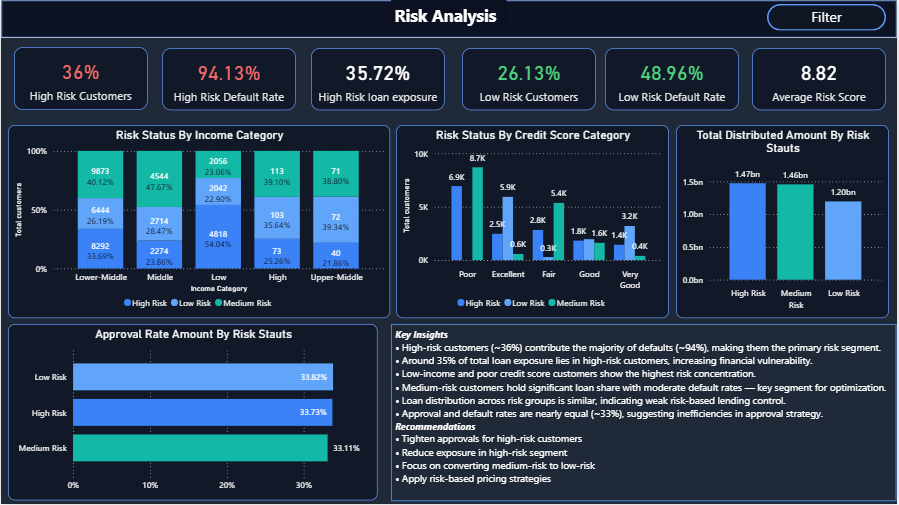

The page's visual inventory and layout, read from the dashboard file:
{"tool":"powerbi","page":{"name":"Risk analysis","canvas":[1280,720],"ordinal":1},"visuals":[{"type":"card","fields":{"Values":["Measure_table.High Risk Customers"]},"box":[18.7,67.2,190.8,89.6],"z":0},{"type":"shape","box":[0,0,1280,54.3],"z":1000},{"type":"textbox","box":[557.5,0,165,45],"z":2000},{"type":"card","fields":{"Values":["Measure_table.Low Risk Customers"]},"box":[657.9,67.9,191.3,89.4],"z":3000},{"type":"card","fields":{"Values":["Measure_table.HR Default Rate"]},"box":[230.6,67.9,191.3,89.4],"z":4000},{"type":"card","fields":{"Values":["Measure_table.Low Risk Default Rate"]},"box":[863.5,67.9,191.3,89.4],"z":5000},{"type":"card","fields":{"Values":["Measure_table.Average Risk Score"]},"box":[1072.6,67.9,191.3,89.4],"z":6000},{"type":"card","fields":{"Values":["Measure_table.HR loan exposure"]},"box":[443.4,67.9,191.3,89.4],"z":7000},{"type":"actionButton","box":[1094,6,170,38],"z":8000},{"type":"hundredPercentStackedColumnChart","title":"Risk Status By Income Category","fields":{"Category":["customers.Income Category"],"Y":["Measure_table.Total customers"],"Series":["customers.Risk Category"]},"box":[10,178,546,276],"z":9000},{"type":"clusteredColumnChart","title":"Risk Status By Credit Score Category","fields":{"Category":["credit_profile.Credit Score Segment"],"Y":["Measure_table.Total customers"],"Series":["customers.Risk Category"]},"box":[564,178,390,276],"z":10000},{"type":"columnChart","title":"Total Distributed Amount By Risk Stauts","fields":{"Category":["customers.Risk Category"],"Y":["Measure_table.total distributed amount"]},"box":[964,178,304,276],"z":11000},{"type":"textbox","box":[556.7,463.3,722,253],"z":12000},{"type":"clusteredBarChart","title":"Approval Rate Amount By Risk Stauts","fields":{"Category":["customers.Risk Category"],"Y":["Measure_table.Approval rate"]},"box":[10,463.3,528.3,251.7],"z":13000}]}

Visuals, with their boxes in screenshot pixels (x1, y1, x2, y2), scaled from the page's 1280x720 canvas onto the 899x505 screenshot:
card - Measure_table.High Risk Customers: bbox=(13, 47, 147, 110)
shape: bbox=(0, 0, 898, 38)
textbox: bbox=(392, 0, 507, 32)
card - Measure_table.Low Risk Customers: bbox=(462, 48, 596, 110)
card - Measure_table.HR Default Rate: bbox=(162, 48, 296, 110)
card - Measure_table.Low Risk Default Rate: bbox=(606, 48, 741, 110)
card - Measure_table.Average Risk Score: bbox=(753, 48, 888, 110)
card - Measure_table.HR loan exposure: bbox=(311, 48, 446, 110)
actionButton: bbox=(768, 4, 888, 31)
"Risk Status By Income Category" hundredPercentStackedColumnChart: bbox=(7, 125, 391, 318)
"Risk Status By Credit Score Category" clusteredColumnChart: bbox=(396, 125, 670, 318)
"Total Distributed Amount By Risk Stauts" columnChart: bbox=(677, 125, 891, 318)
textbox: bbox=(391, 325, 898, 502)
"Approval Rate Amount By Risk Stauts" clusteredBarChart: bbox=(7, 325, 378, 501)
